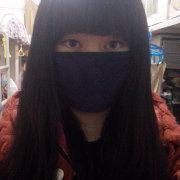OK: (56, 26, 132, 110)
